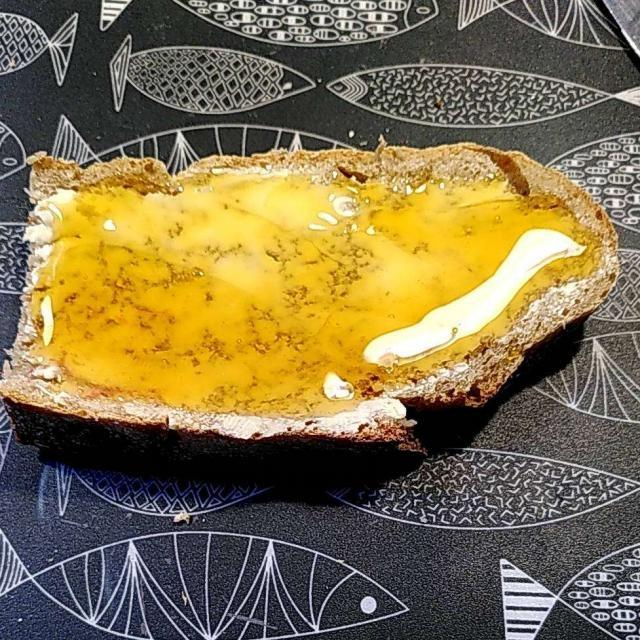bread: (30, 151, 610, 457)
honey: (27, 146, 602, 415)
